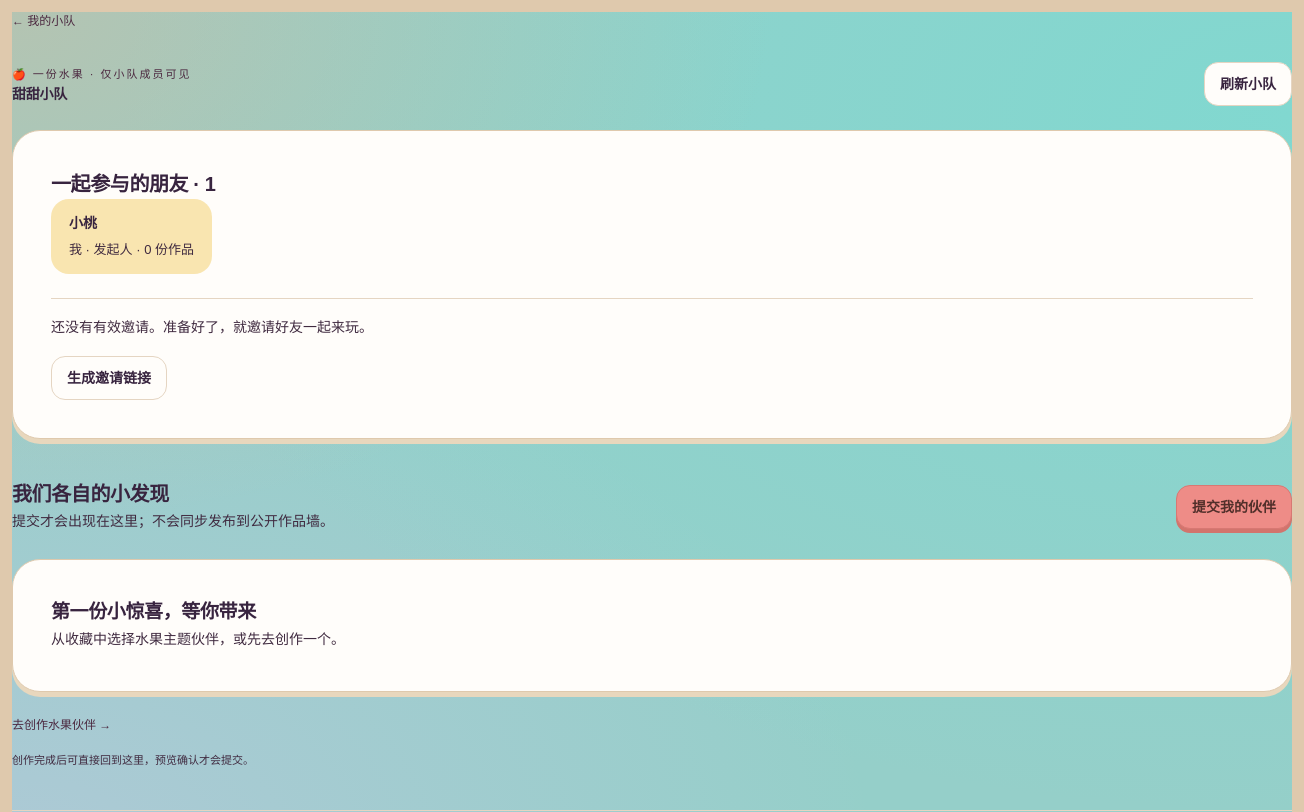
Test: failed mutation with failed reconciliation blocks further writes
The width and height of the screenshot is (1304, 812).
Click the button "生成邀请链接". click: x=109, y=378
box: [51,356,167,400]
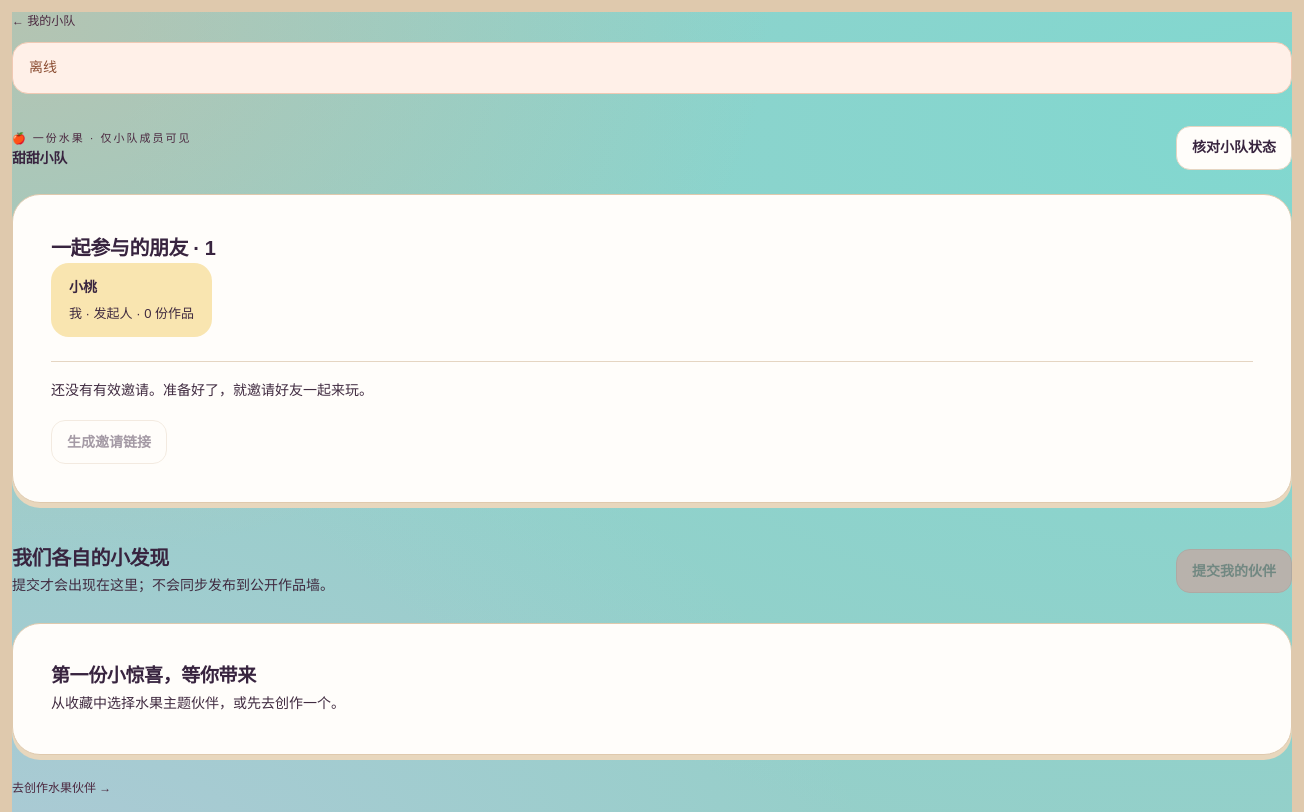
Now the button "生成邀请链接" is disabled, box [51,420,167,464]
Click the button "核对小队状态". click: x=1234, y=148
box: [1176,126,1292,170]
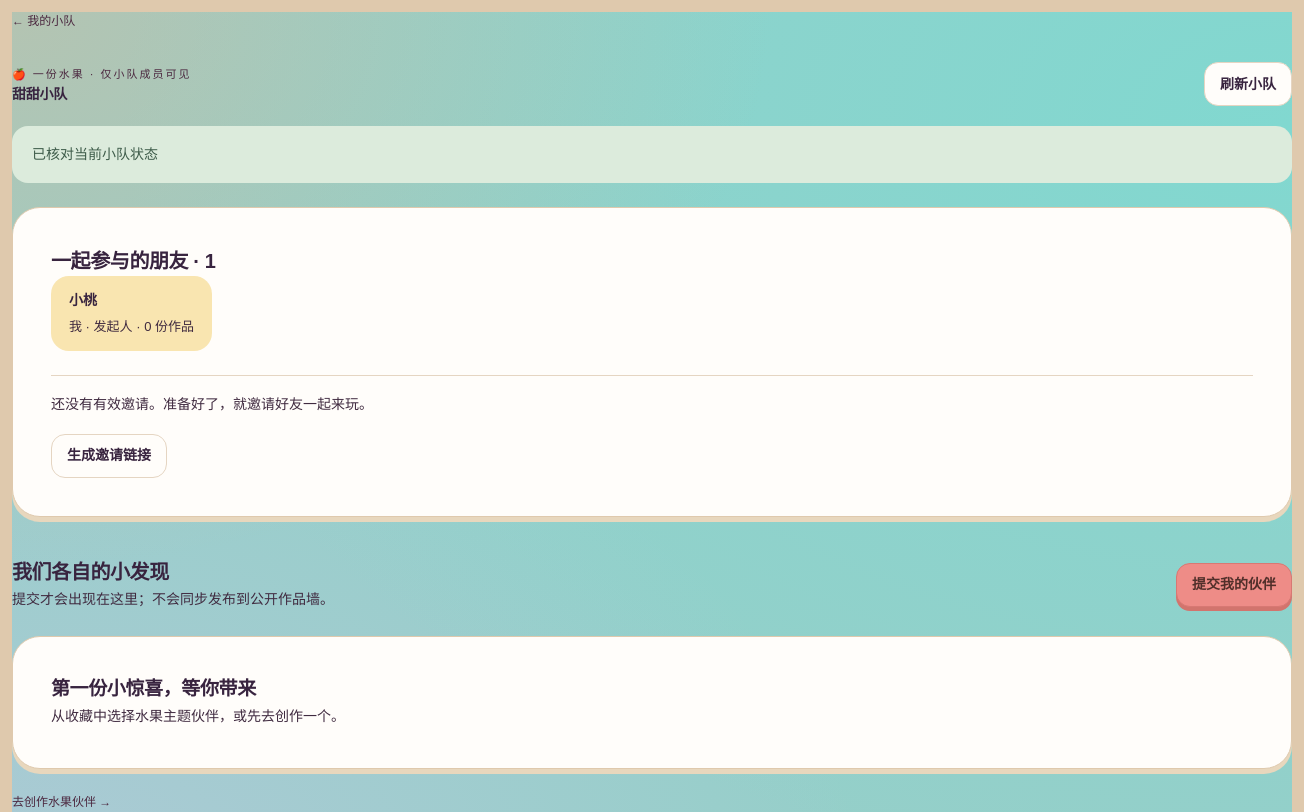
Now the button "生成邀请链接" is enabled, box [51,434,167,478]
